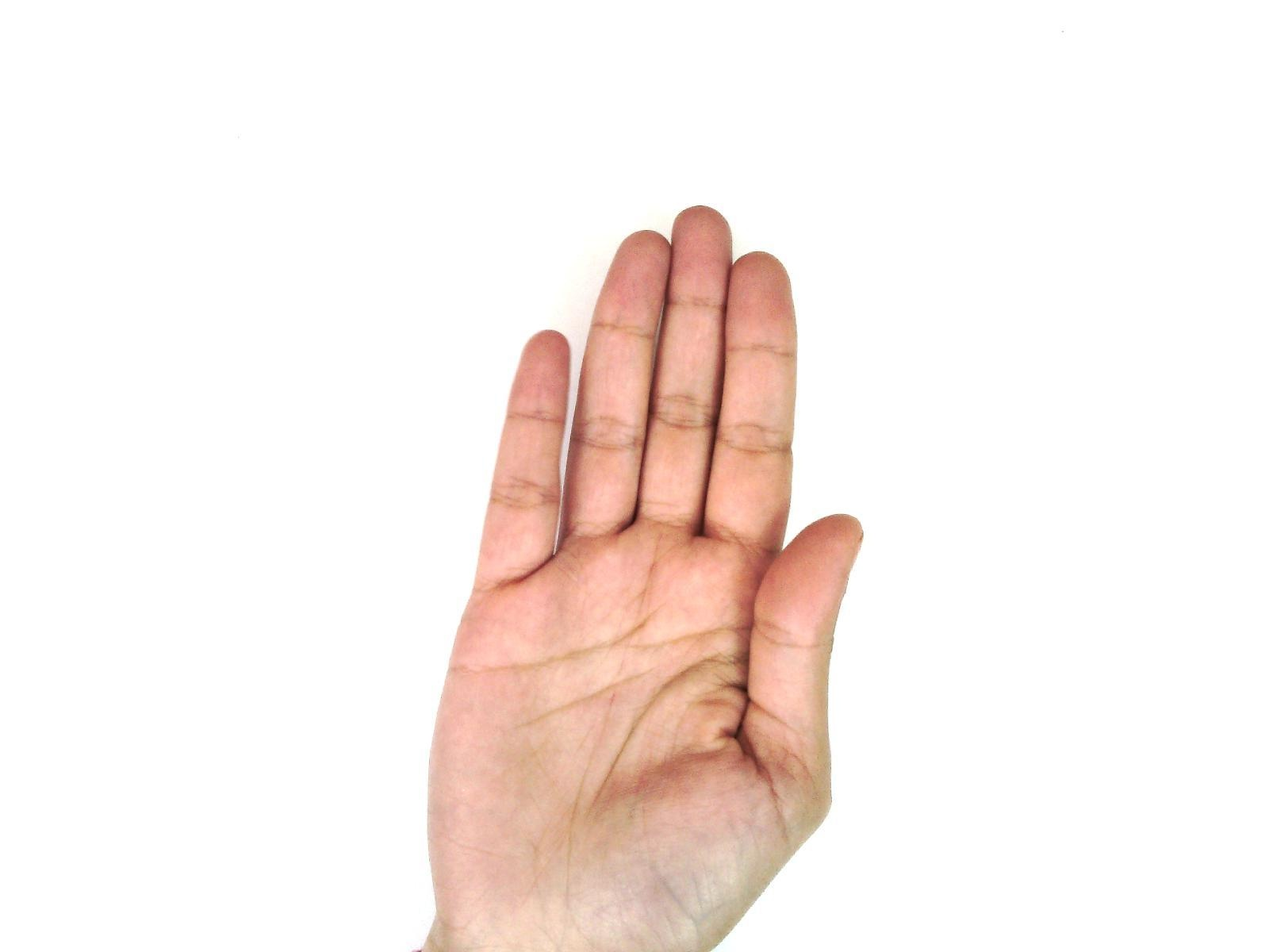open_palm: (419, 205, 867, 951)
